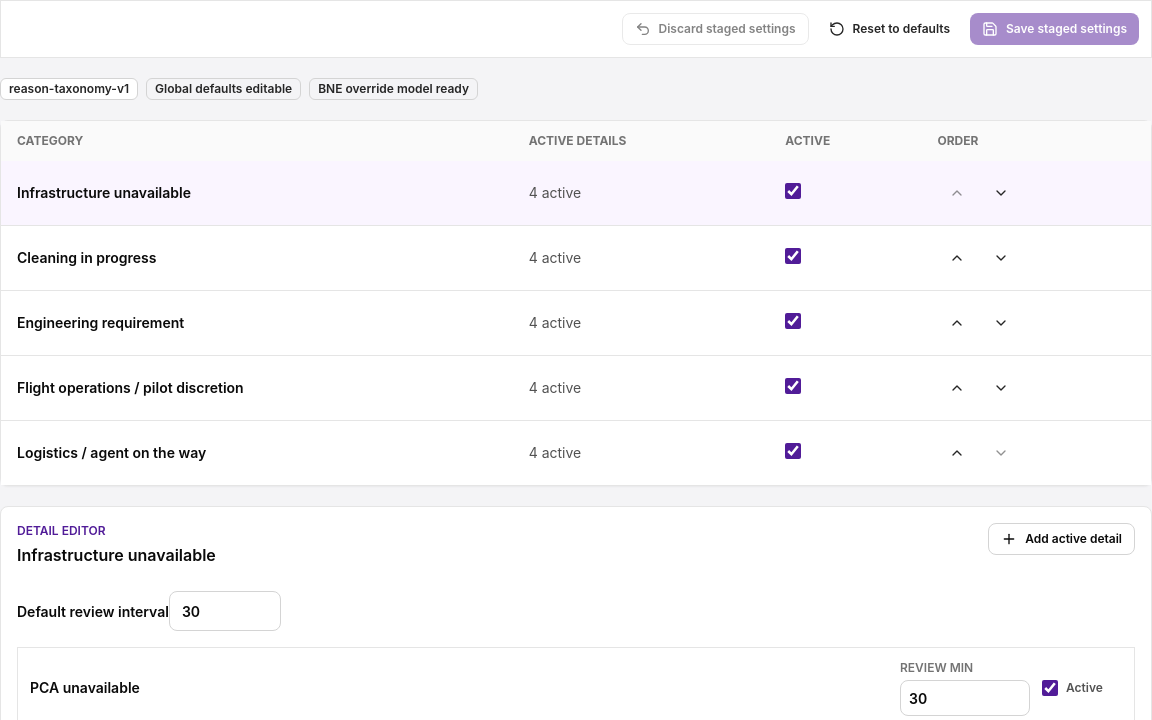
Test case: ReasonSettingsPage › supports staged save and discard for global defaults
The width and height of the screenshot is (1152, 720).
Replace the text in the number field labelled "Default review interval" with "45" at (225, 611), box [169, 591, 281, 631]
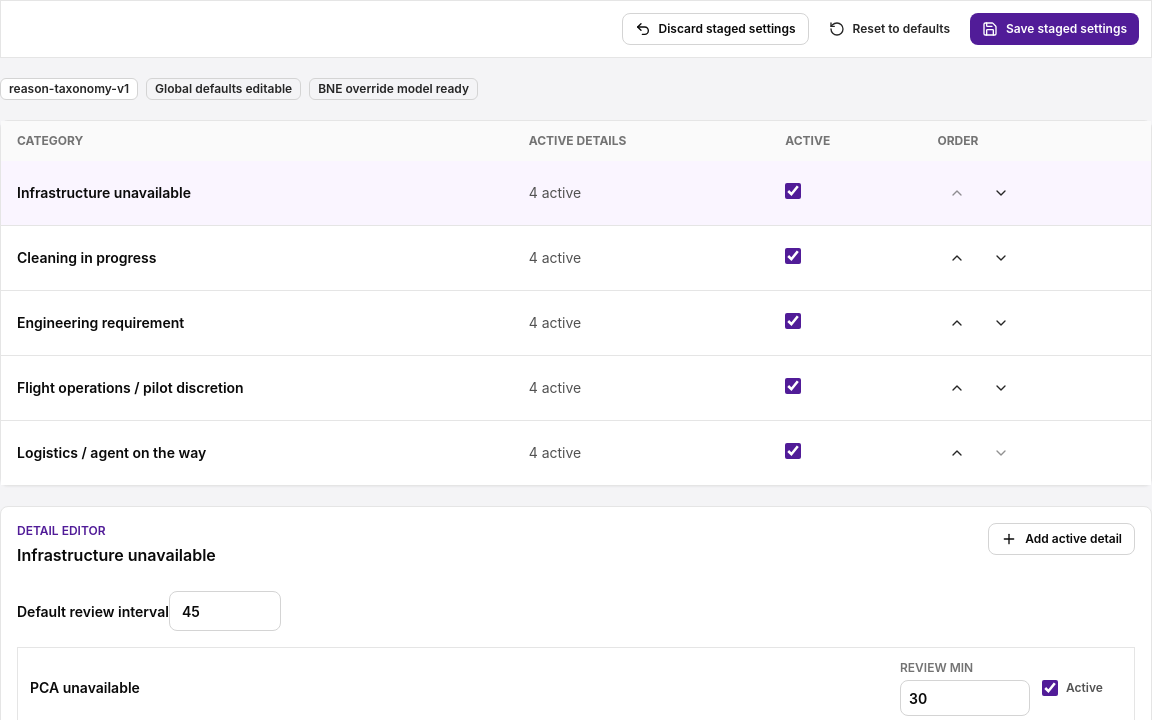
Check: the button "Save staged settings" is enabled, box [970, 13, 1139, 45]
Click the button "Discard staged settings".
click(715, 29)  # box [622, 13, 809, 45]
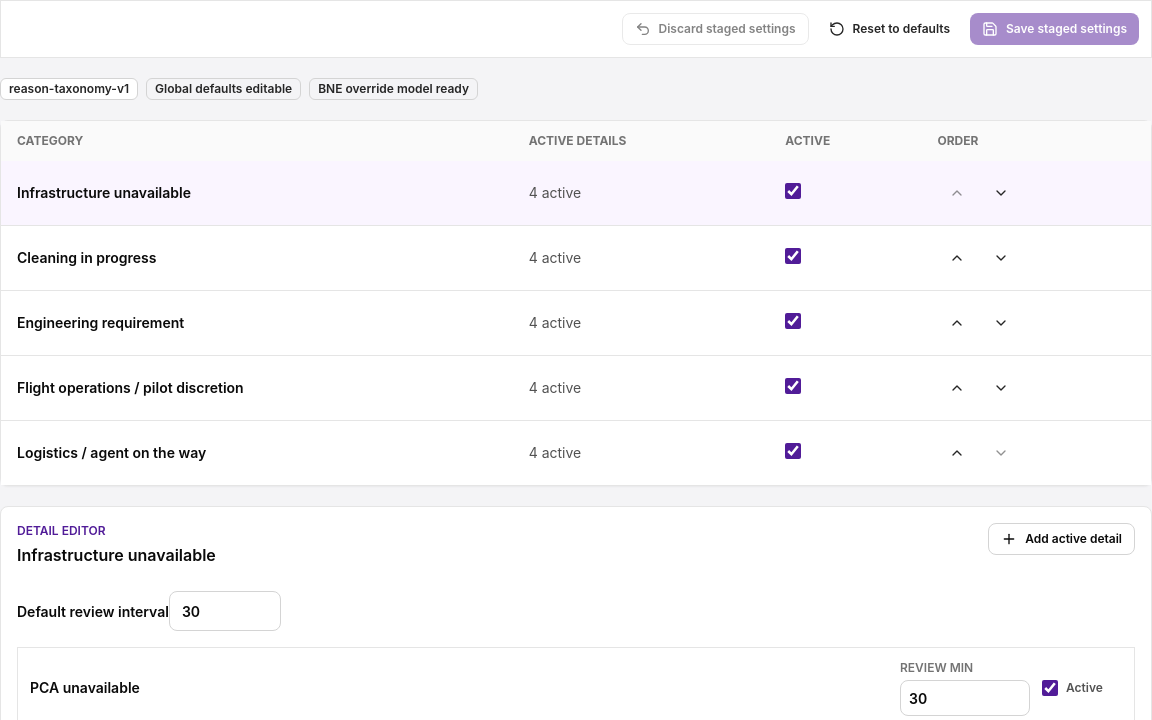
Check: the number field labelled "Default review interval" holds "30"
Replace the text in the number field labelled "Default review interval" with "45" at (225, 611), box [169, 591, 281, 631]
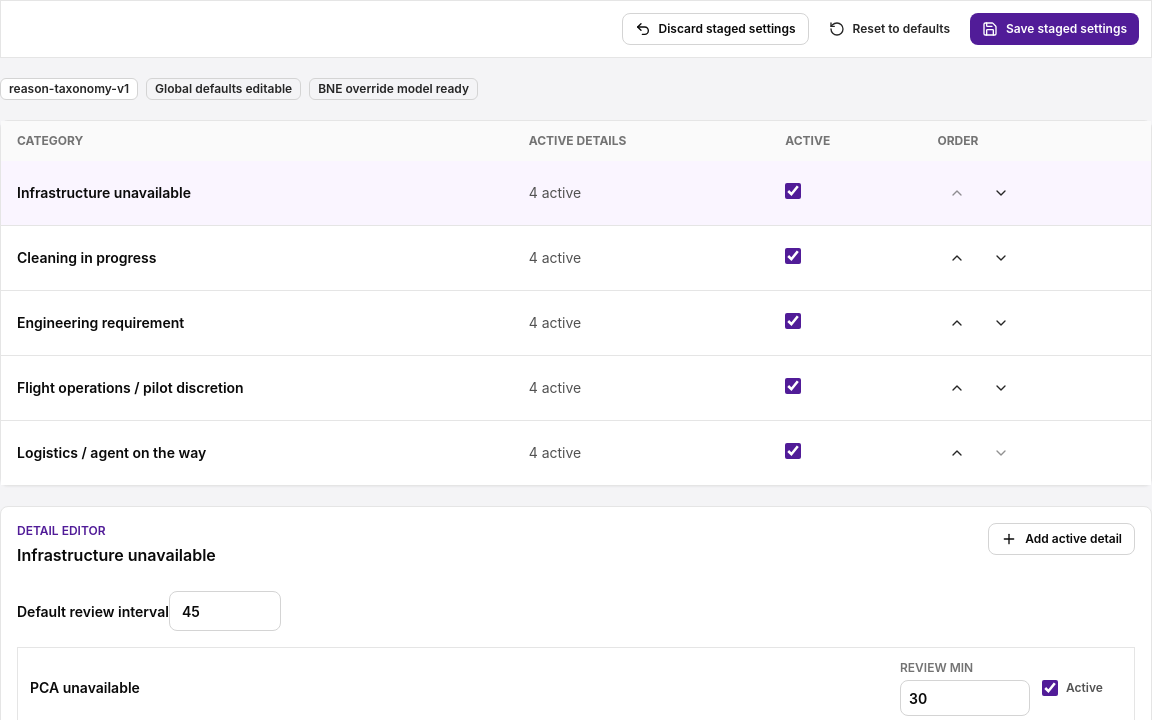
Click the button "Save staged settings".
click(1054, 29)  # box [970, 13, 1139, 45]
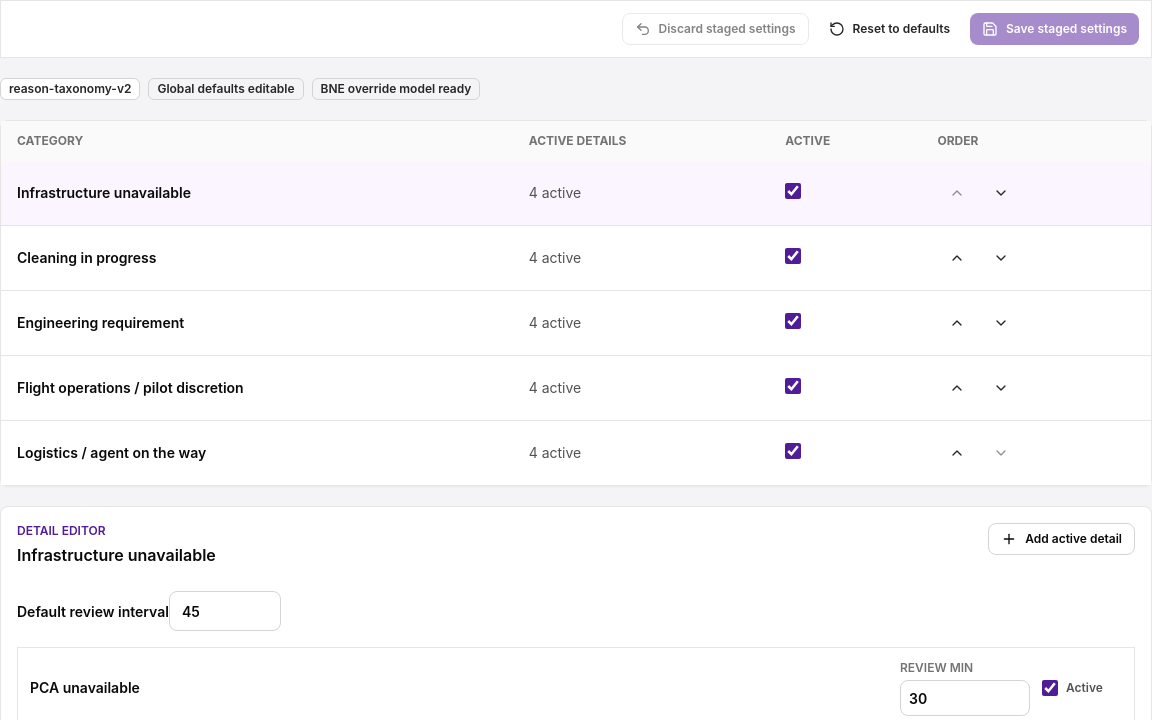
Check: the text "reason-taxonomy-v2" is shown, box [0, 78, 140, 100]
